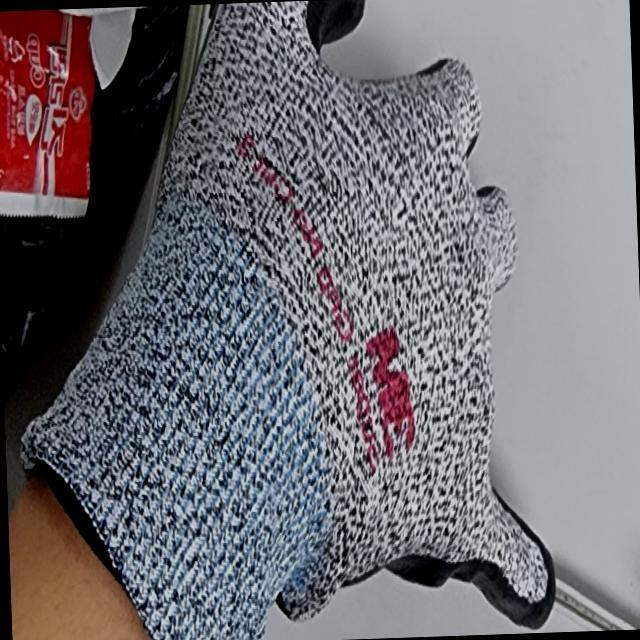Gloves: (0, 0, 560, 639)
